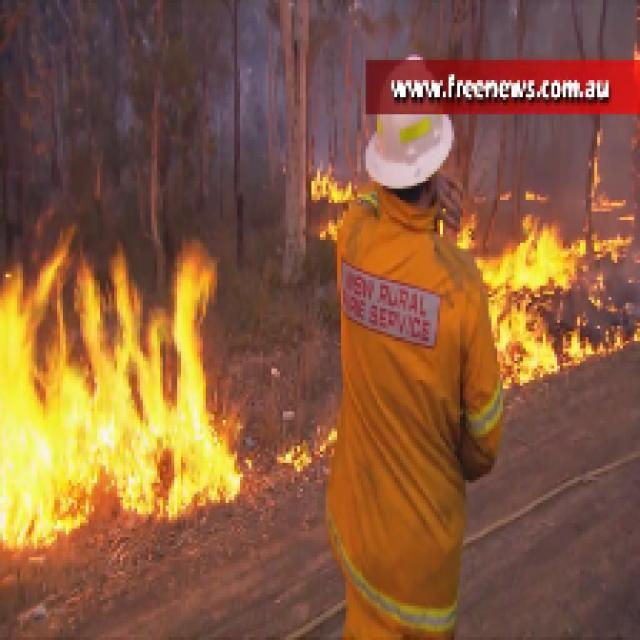Fire: (0, 264, 250, 548), (485, 227, 640, 376)
